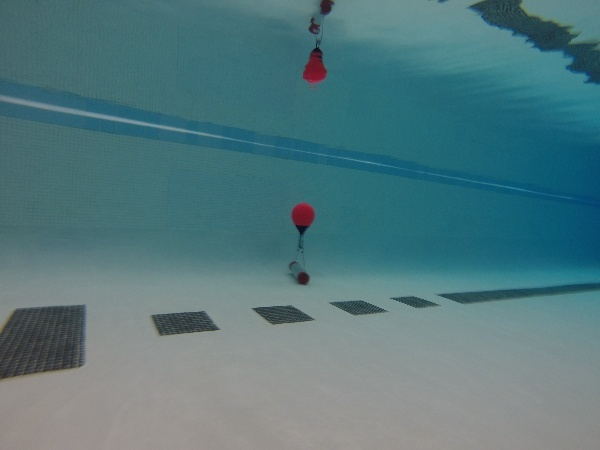buoy_red: (289, 200, 316, 237)
